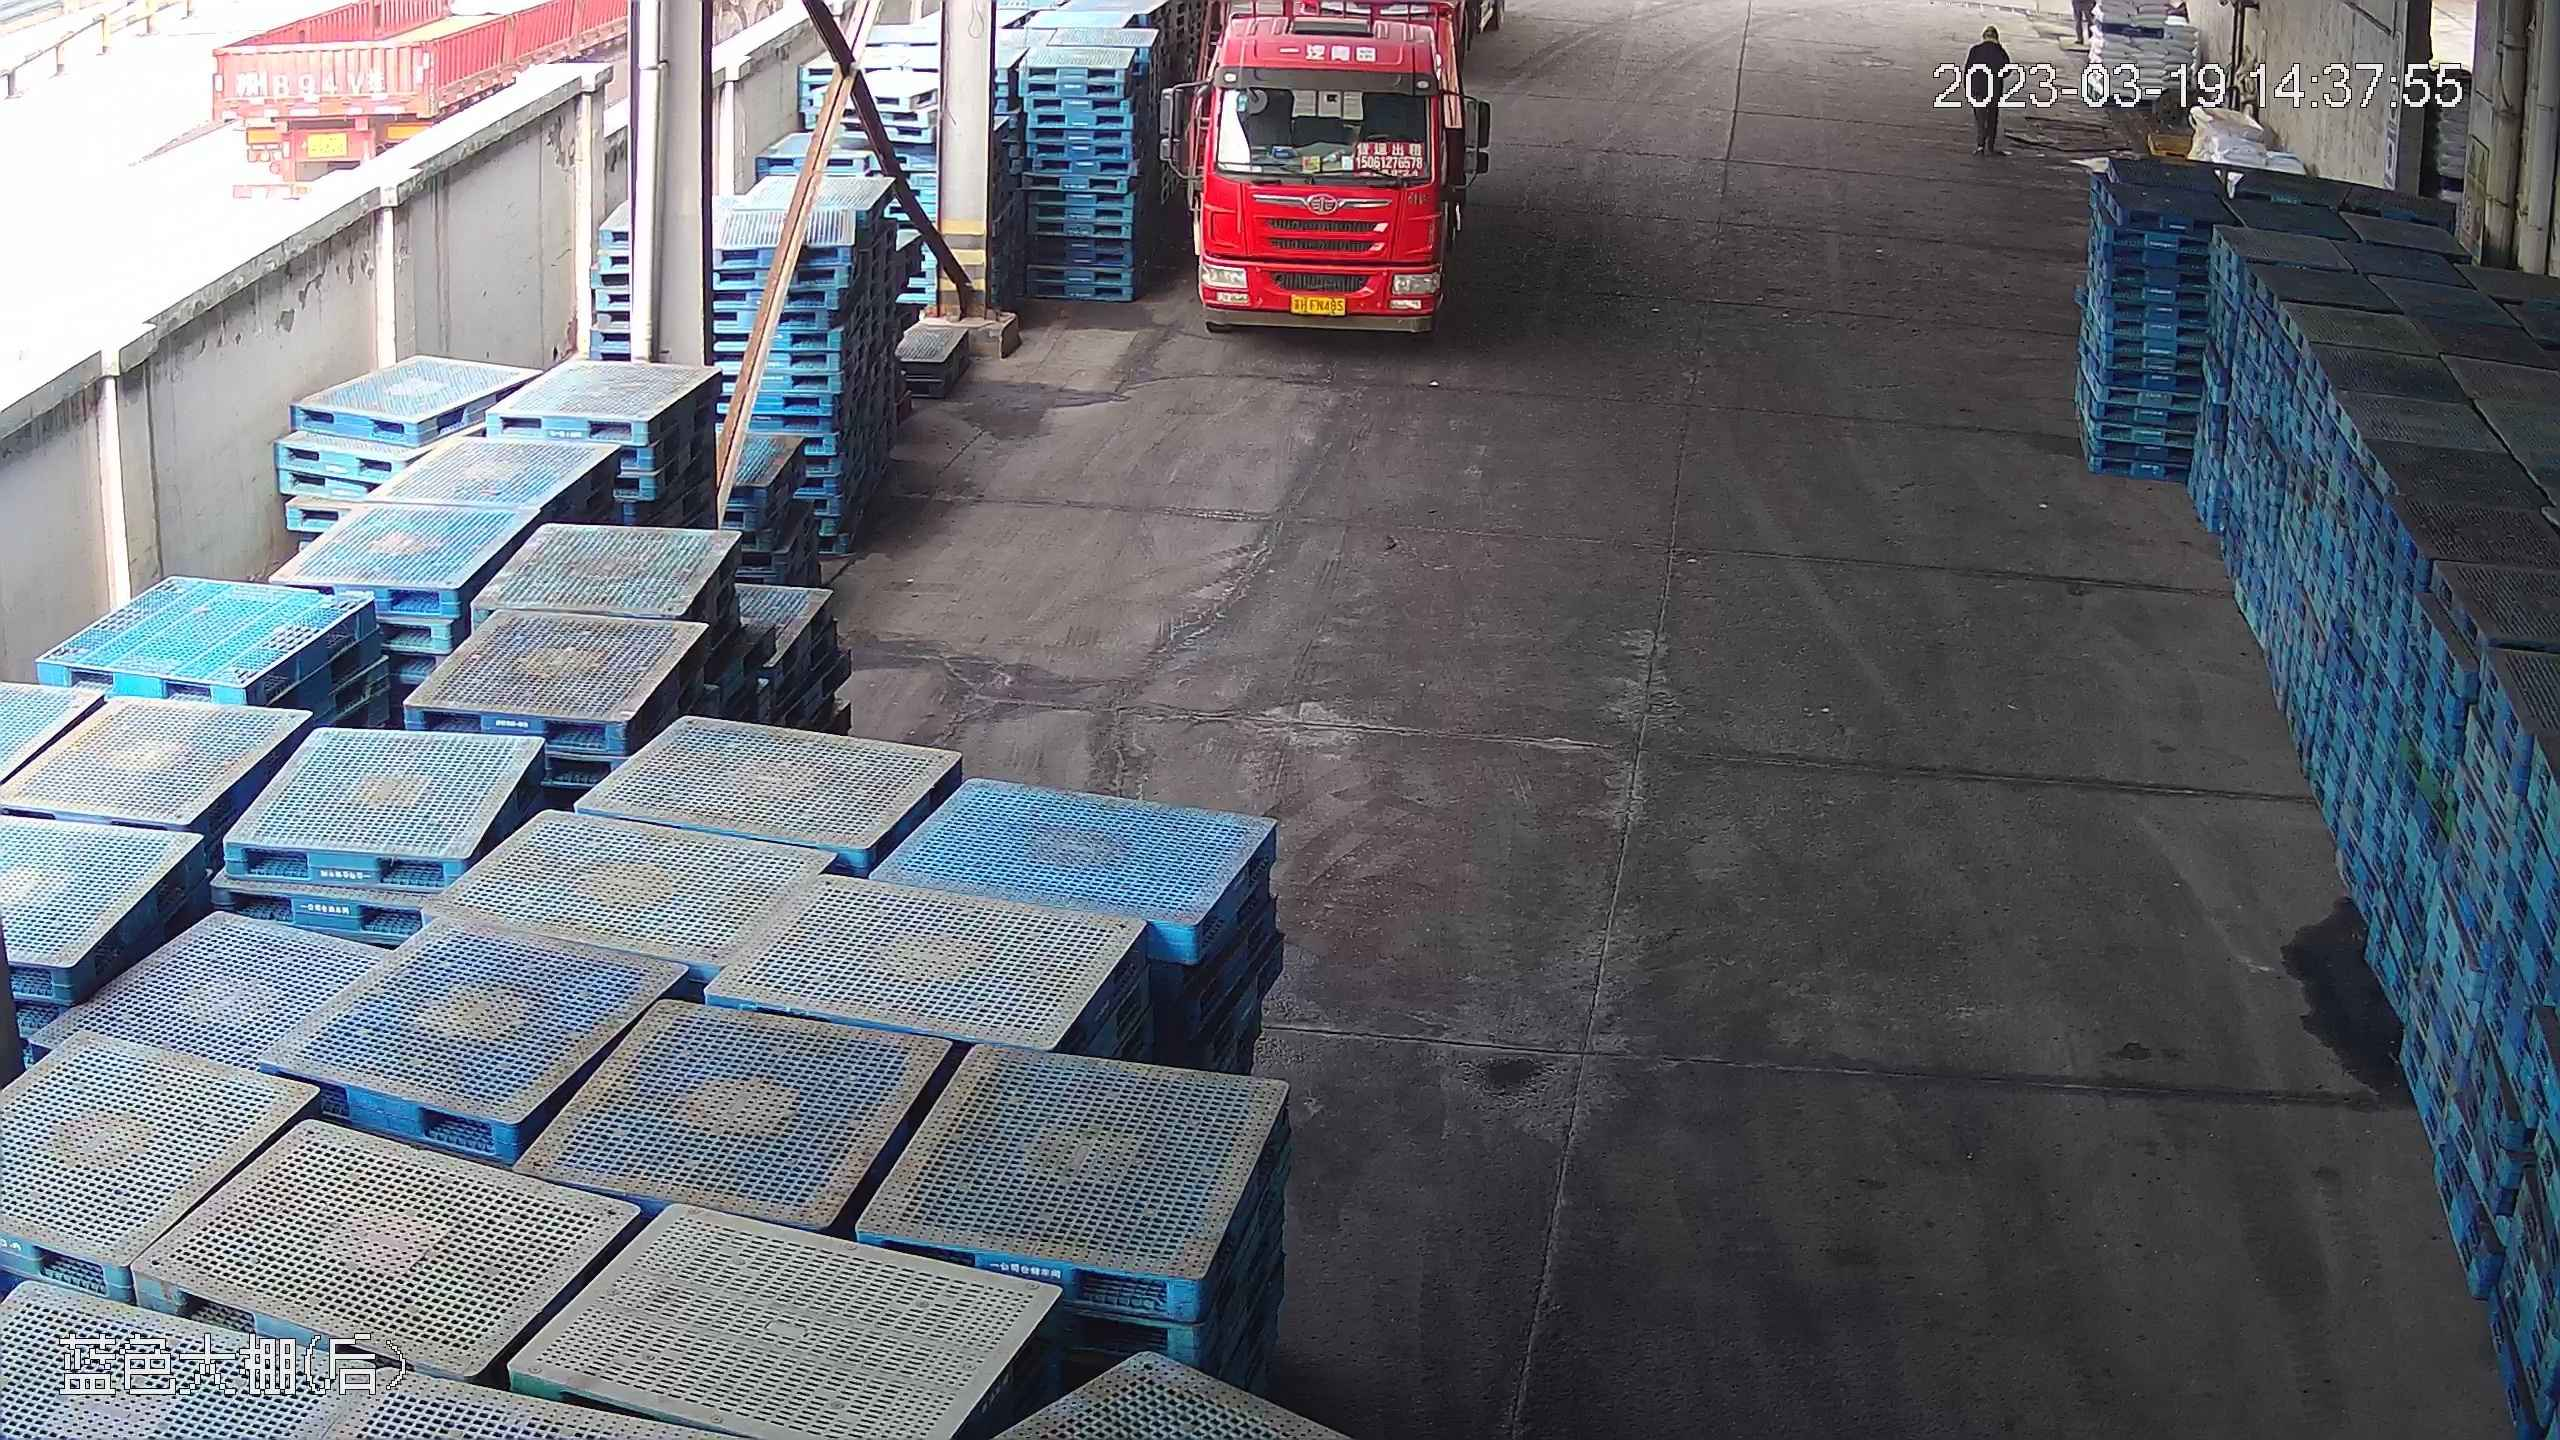head: (1969, 19, 2010, 65)
helmet: (1979, 20, 2003, 38)
people: (1961, 26, 2012, 159)
truck: (1165, 0, 1487, 332)
